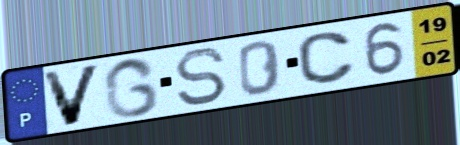0: (236, 38, 281, 99)
6: (361, 20, 408, 77)
C: (294, 29, 359, 87)
G: (102, 55, 162, 119)
S: (171, 45, 229, 108)
V: (38, 61, 105, 129)
